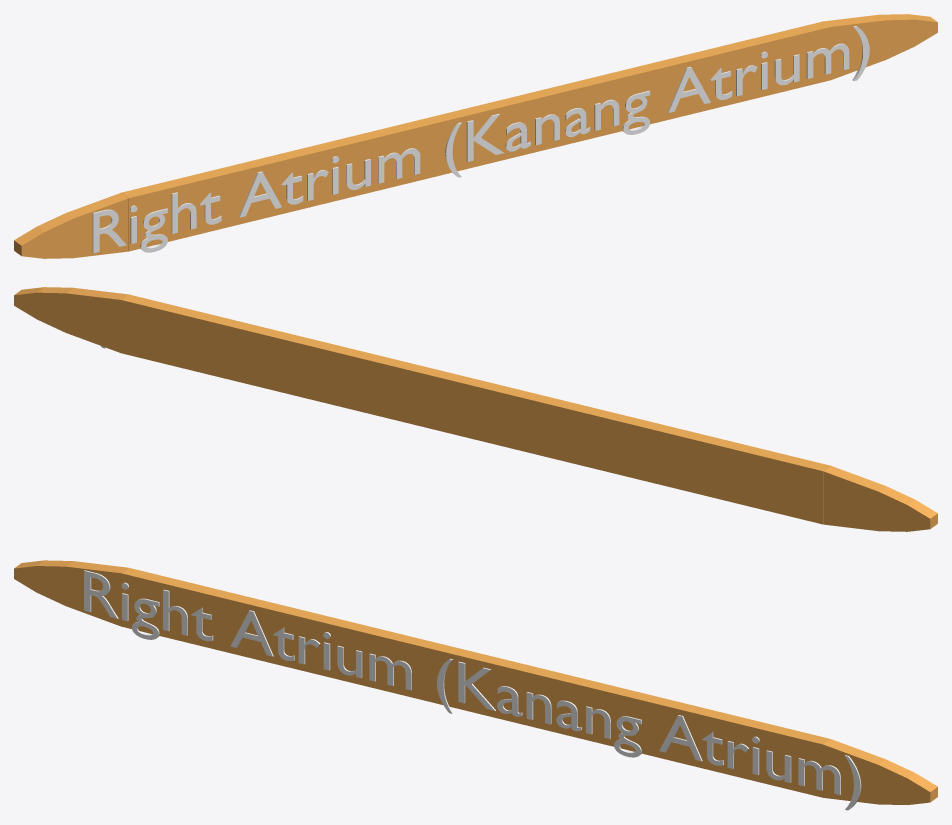
The model's file is txtRightAtrium.fbx.
3 views of the same model, one above another, from view 1: azimuth 30°, elevation 25°; view 2: azimuth 150°, elevation 25°; view 3: azimuth 330°, elevation 25° (orthographic).
Parts seen in each view (by area): view 1: TagContainer.099, Text.101; view 2: TagContainer.099; view 3: TagContainer.099, Text.101.
Boxes of the visible parts, x1,y1,x2,y2 form: TagContainer.099: [14, 14, 937, 258]; Text.101: [92, 26, 869, 253]; TagContainer.099: [14, 287, 937, 531]; TagContainer.099: [14, 560, 937, 804]; Text.101: [84, 570, 861, 810].
Bounding box in the file's own units: 743 × 45.81 × 11.84.
